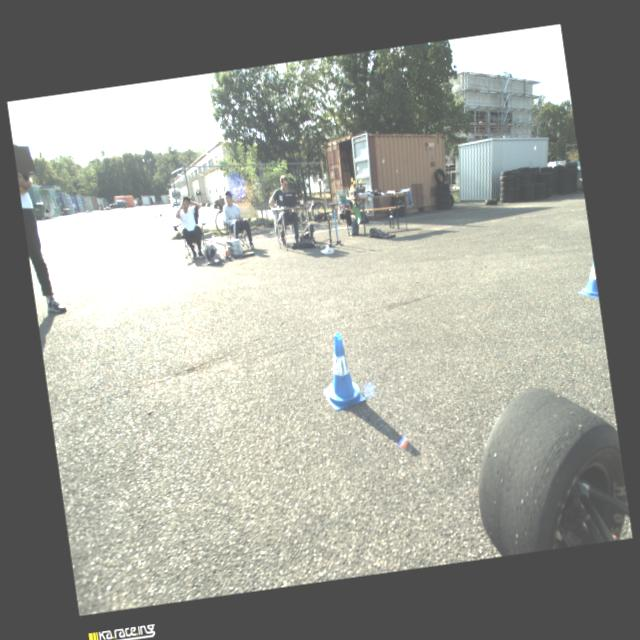blue_cone: (314, 329, 366, 412), (573, 261, 599, 301)
yellow_cone: (350, 177, 354, 188)
